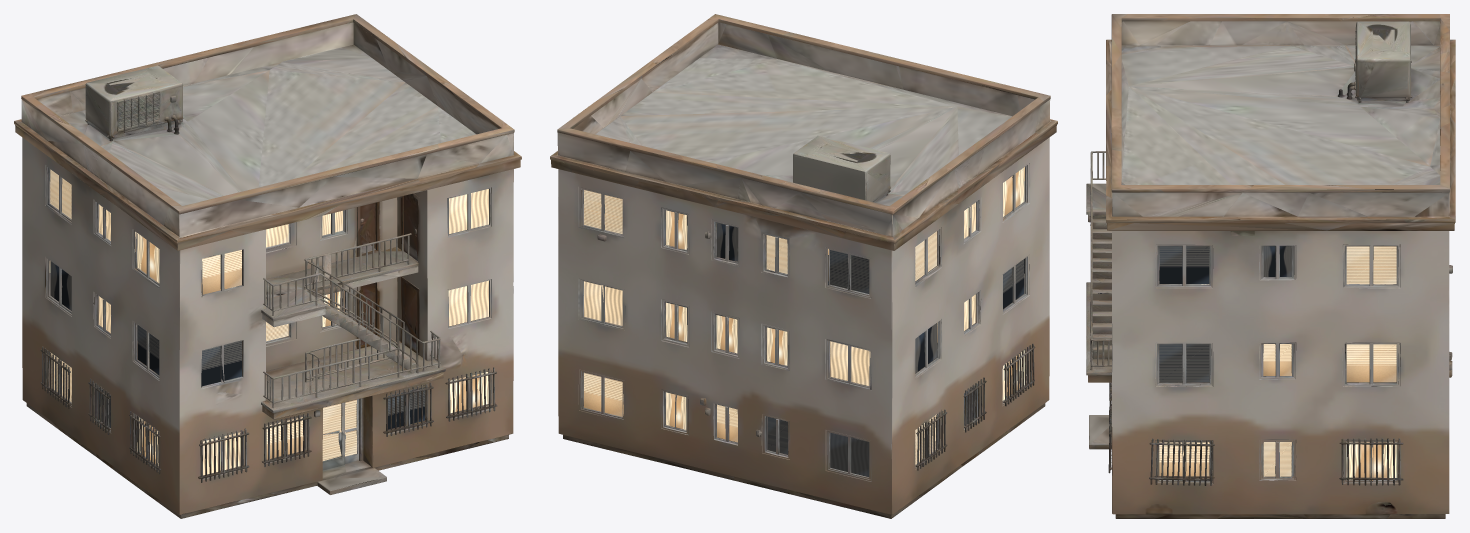
Rendered from apt-01-stucco.glb.
3 views of the same model, side by side, from view 1: azimuth 30°, elevation 25°; view 2: azimuth 150°, elevation 25°; view 3: azimuth 270°, elevation 25° (orthographic). The views are drawn at different scales.
Visible parts, largest first — view 1: geometry_0; view 2: geometry_0; view 3: geometry_0.
Boxes of the visible parts, bbox=[...] form: geometry_0: bbox=[14, 14, 521, 518]; geometry_0: bbox=[550, 14, 1057, 518]; geometry_0: bbox=[1086, 14, 1455, 518].
Size of the model in its own units: 11.06 by 10 by 9.59.
Materials: 5 (5 with a texture image).
